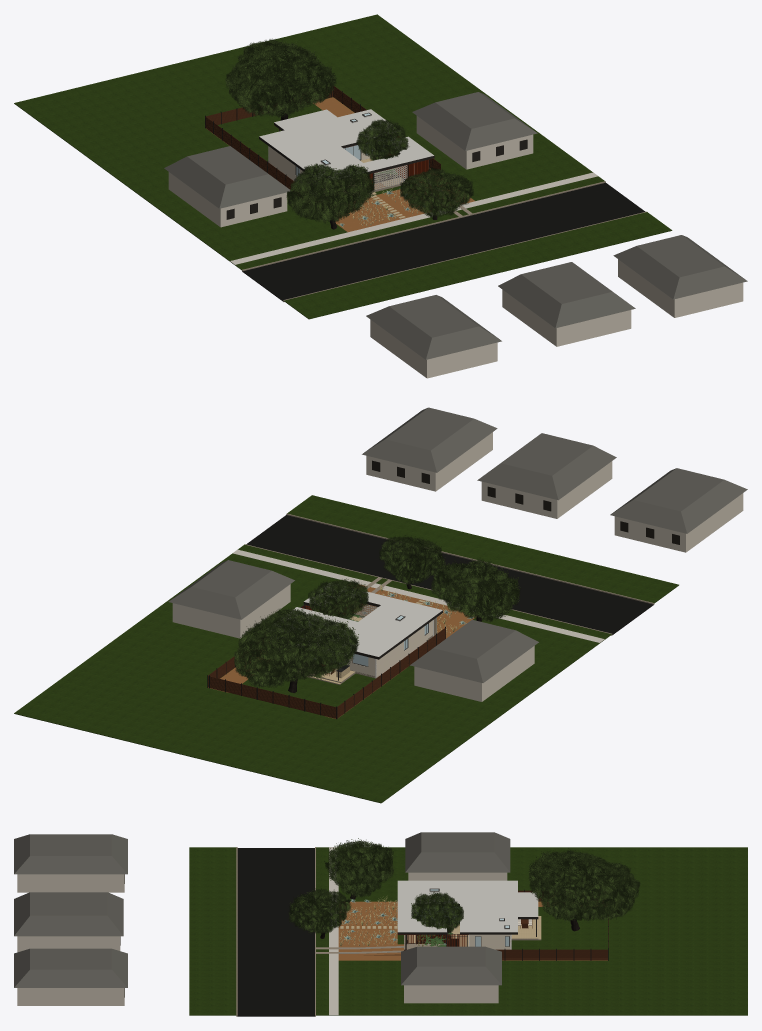
Rendered from casa01_v2.glb.
3 renders of one model, top to bottom at view 1: azimuth 30°, elevation 25°; view 2: azimuth 150°, elevation 25°; view 3: azimuth 270°, elevation 25°, orthographic. The views are drawn at different scales.
Visible parts, largest first — view 1: Ground, Context, tree_7_canopy, Roof, tree_11_canopy, tree_19_canopy, House, tree_3_canopy; view 2: Ground, Context, tree_7_canopy, tree_11_canopy, Roof, tree_19_canopy, House, tree_3_canopy; view 3: Ground, Context, tree_7_canopy, Roof, tree_11_canopy, tree_19_canopy, House, tree_3_canopy, Plants_feather_grass.
Part boxes in pixels (x1,y1,x2,y2): Ground: [14, 14, 672, 319]; Context: [164, 85, 747, 378]; tree_7_canopy: [225, 38, 336, 117]; Roof: [259, 109, 434, 178]; tree_11_canopy: [286, 163, 374, 223]; tree_19_canopy: [400, 167, 474, 218]; House: [268, 112, 429, 218]; tree_3_canopy: [356, 119, 409, 160]; Ground: [14, 495, 678, 803]; Context: [168, 407, 747, 719]; tree_7_canopy: [234, 607, 359, 688]; tree_11_canopy: [431, 558, 520, 622]; Roof: [268, 583, 442, 659]; tree_19_canopy: [379, 535, 445, 584]; House: [300, 600, 436, 684]; tree_3_canopy: [308, 578, 368, 619]; Ground: [189, 847, 747, 1016]; Context: [14, 832, 608, 1005]; tree_7_canopy: [528, 848, 640, 921]; Roof: [397, 880, 538, 934]; tree_11_canopy: [324, 838, 394, 898]; tree_19_canopy: [288, 888, 351, 934]; House: [340, 888, 541, 949]; tree_3_canopy: [411, 892, 463, 932]; Plants_feather_grass: [340, 899, 397, 945].
Bounding box in the file's own units: 56.39 × 11.73 × 104.
46 materials, 19 textured.
